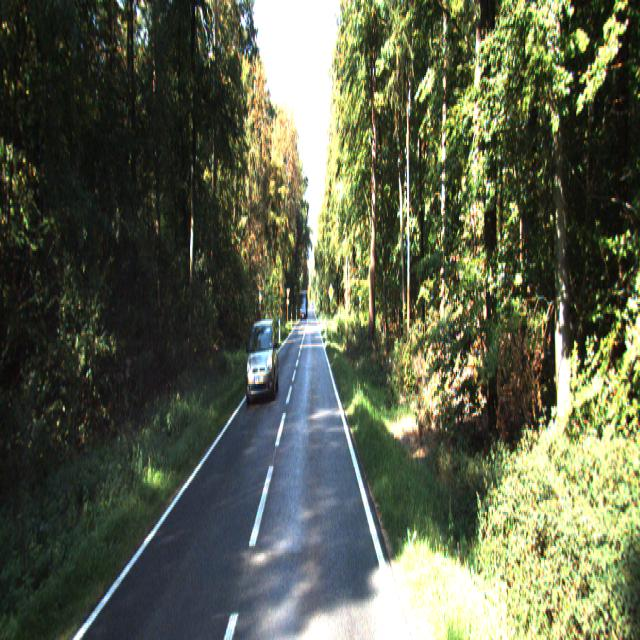Car: (245, 316, 280, 401)
